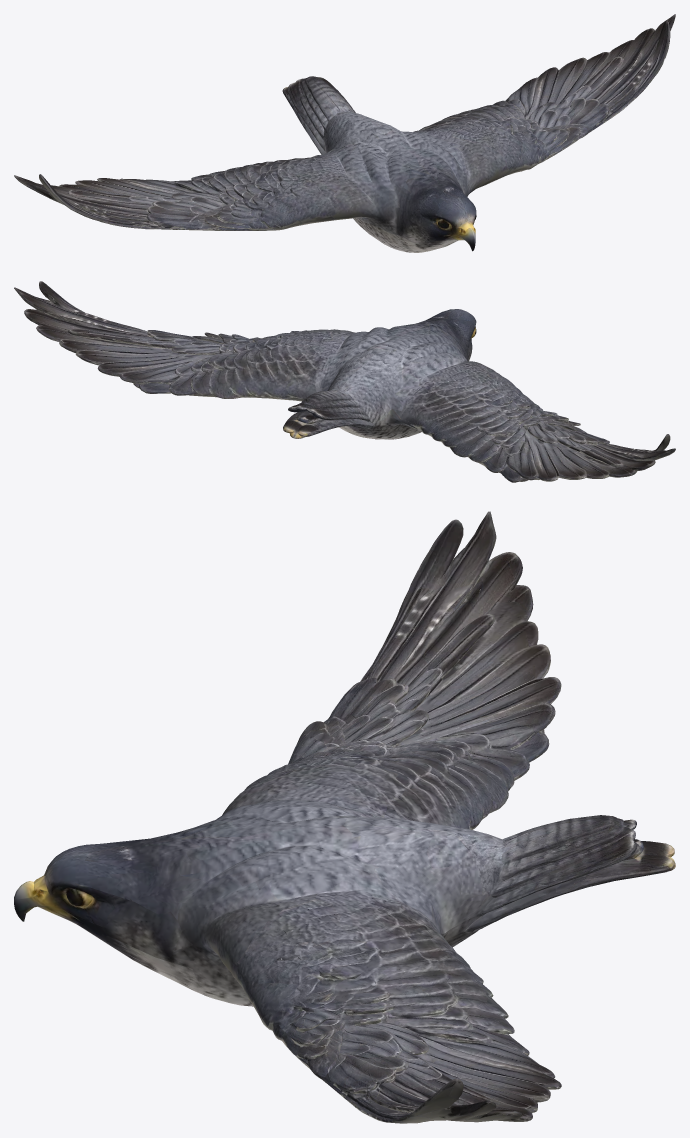
The model's file is fly.glb.
The picture shows the model from 3 angles, top to bottom: view 1: azimuth 30°, elevation 25°; view 2: azimuth 150°, elevation 25°; view 3: azimuth 270°, elevation 25°; orthographic projection. The views are drawn at different scales.
Parts seen in each view (by area): view 1: Mesh_0; view 2: Mesh_0; view 3: Mesh_0.
Part boxes in pixels (<box>): Mesh_0: <box>14,14,675,252</box>; Mesh_0: <box>14,281,675,482</box>; Mesh_0: <box>14,511,675,1123</box>.
Size of the model in its own units: 1.9 by 0.3 by 0.9013.
1 material, 1 textured.
